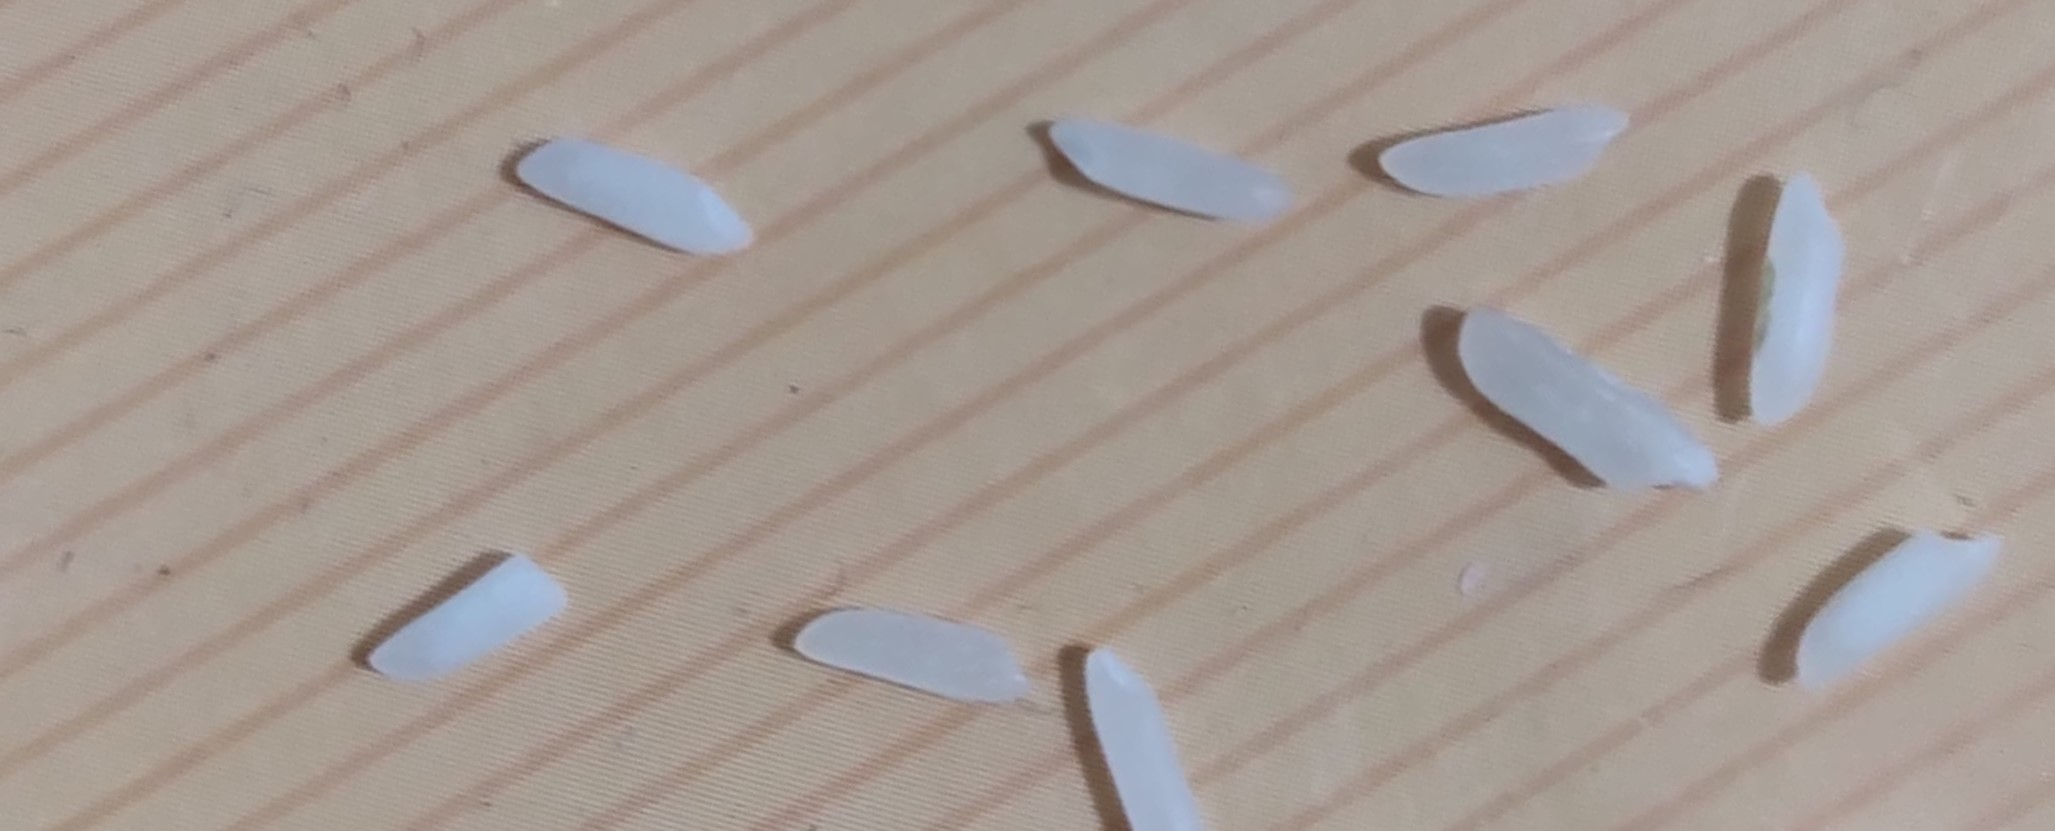broken_grain: (364, 546, 583, 719)
complete_grain: (1452, 304, 1730, 527), (1792, 520, 2005, 711), (501, 128, 768, 276), (779, 591, 1033, 734), (1364, 101, 1640, 230), (1041, 106, 1296, 238), (1740, 160, 1848, 442)
